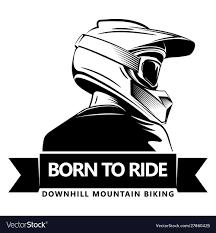helmet: (69, 10, 203, 127)
